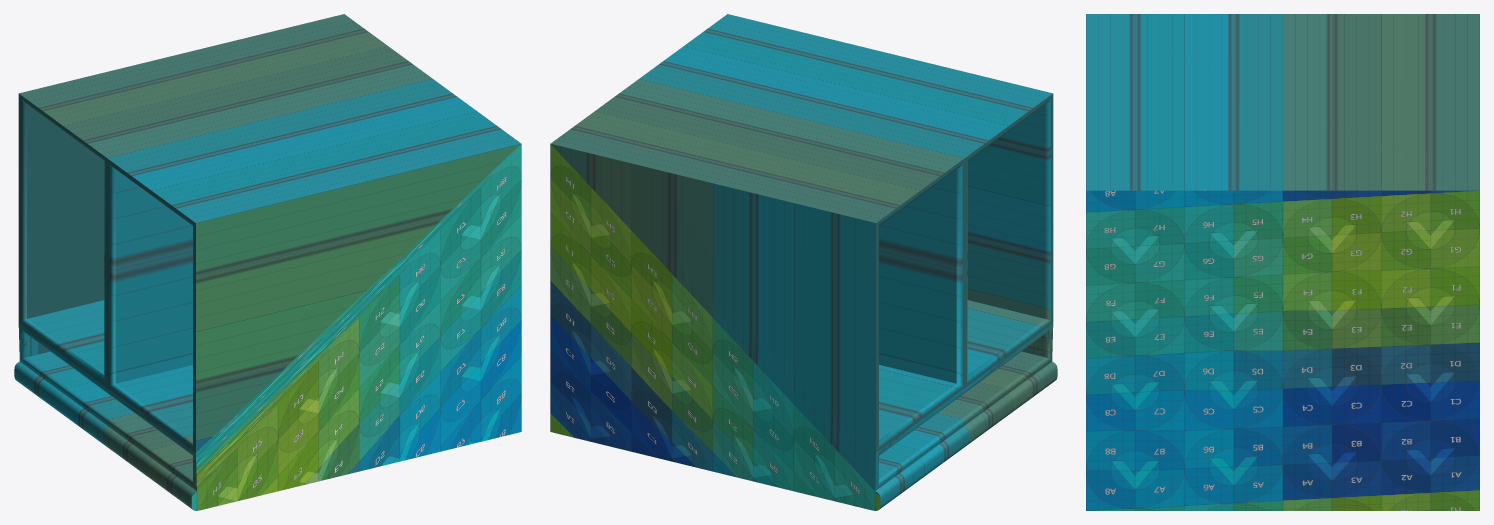
The model's file is cajon superior sin tapa.fbx.
3 renders of one model, left to right at view 1: azimuth 30°, elevation 25°; view 2: azimuth 150°, elevation 25°; view 3: azimuth 270°, elevation 25°, orthographic. The views are drawn at different scales.
Visible parts, largest first — view 1: Box050; view 2: Box050; view 3: Box050.
Boxes of the visible parts, <box> form: Box050: <box>14,14,521,510</box>; Box050: <box>550,14,1057,510</box>; Box050: <box>1086,14,1479,510</box>.
Size of the model in its own units: 82.89 by 69.21 by 77.12.
1 material, 1 textured.
